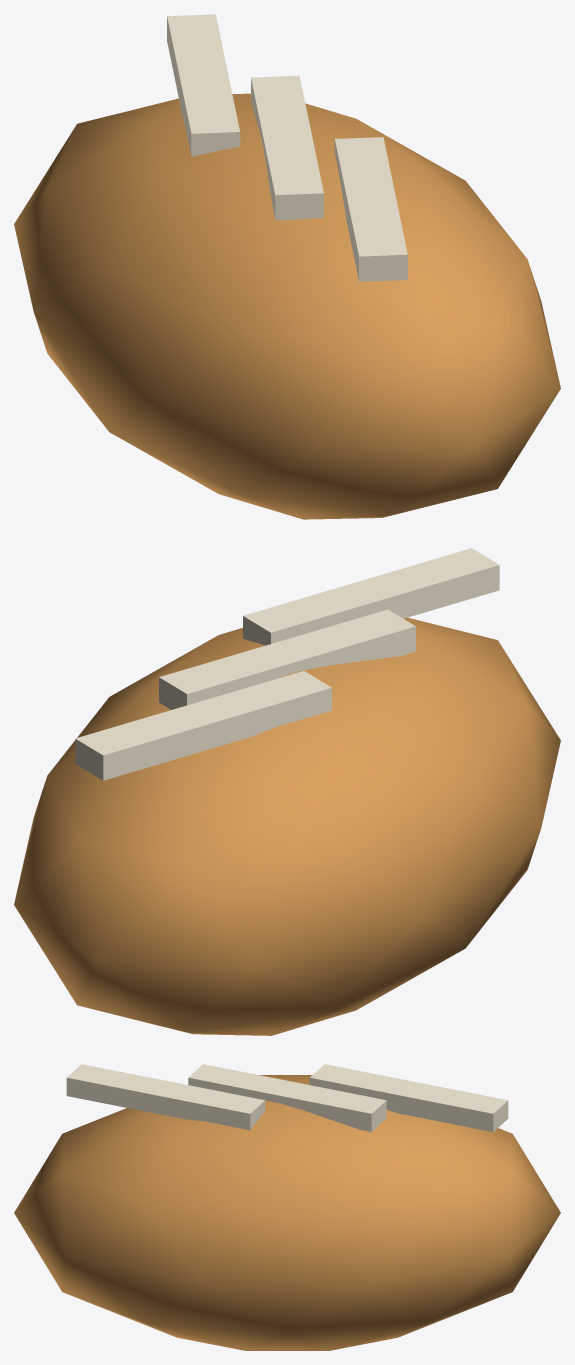
The model's file is bread_loaf.glb.
3 renders of one model, top to bottom at view 1: azimuth 30°, elevation 25°; view 2: azimuth 150°, elevation 25°; view 3: azimuth 270°, elevation 25°, orthographic. The views are drawn at different scales.
Visible parts, largest first — view 1: LOD0; view 2: LOD0; view 3: LOD0.
Part boxes in pixels (x1=…): LOD0: x1=14, y1=14, x2=560, y2=519; LOD0: x1=14, y1=548, x2=560, y2=1035; LOD0: x1=14, y1=1064, x2=560, y2=1350.
Size of the model in its own units: 0.3234 by 0.265 by 0.54.
Materials: 1 (1 with a texture image).
